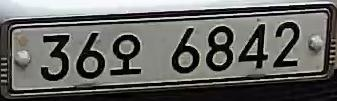2: (271, 19, 302, 70)
3: (38, 31, 74, 85)
4: (236, 22, 270, 70)
6: (166, 25, 203, 75), (74, 28, 108, 81)
8: (203, 22, 236, 73)
오: (108, 28, 146, 80)
